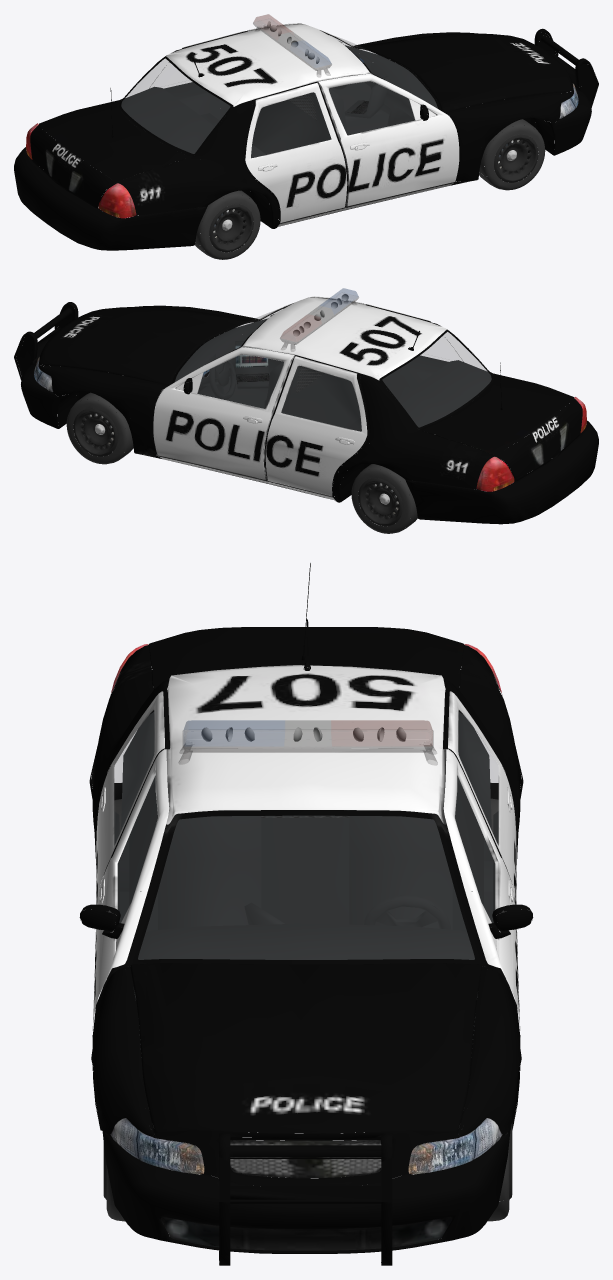
The model's file is yxxb.glb.
3 renders of one model, top to bottom at view 1: azimuth 30°, elevation 25°; view 2: azimuth 150°, elevation 25°; view 3: azimuth 270°, elevation 25°, orthographic. The views are drawn at different scales.
Visible parts, largest first — view 1: CrownVic.Body_0; view 2: CrownVic.Body_0; view 3: CrownVic.Body_0.
Boxes of the visible parts, x1=… form: CrownVic.Body_0: x1=14, y1=14, x2=598, y2=259; CrownVic.Body_0: x1=14, y1=288, x2=598, y2=533; CrownVic.Body_0: x1=79, y1=563, x2=533, y2=1265.
Size of the model in its own units: 5.03 by 1.49 by 1.86.
7 materials, 5 textured.
